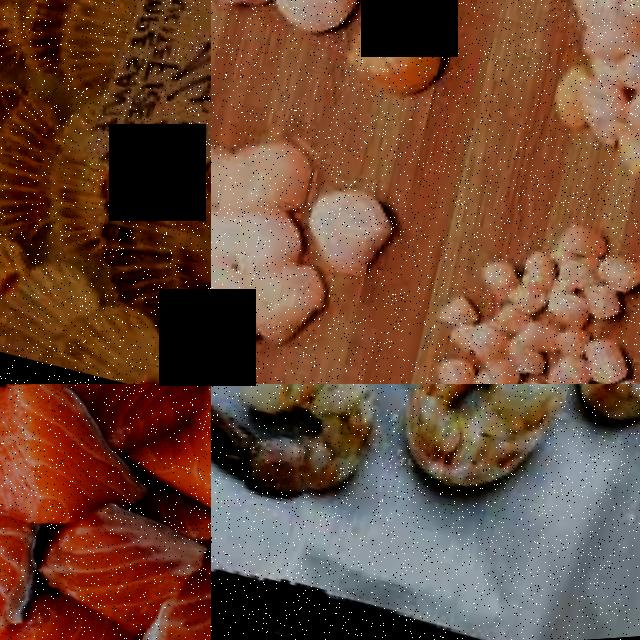salmon: (22, 491, 197, 640), (0, 384, 139, 522), (143, 384, 211, 539), (35, 384, 211, 435), (0, 474, 52, 640)
sea scallops: (333, 0, 453, 115), (286, 178, 402, 290), (212, 128, 314, 225), (250, 0, 360, 51), (211, 260, 264, 364)
shrimp: (367, 384, 577, 524), (211, 384, 391, 531), (539, 384, 640, 459)
